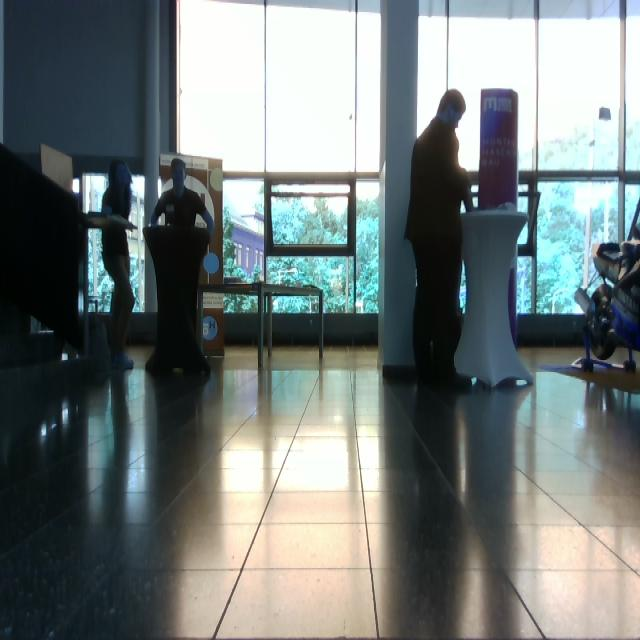light bulb: (203, 252, 220, 274), (599, 106, 611, 121)
person: (404, 89, 475, 390), (145, 158, 215, 377), (100, 160, 138, 370)
pillar: (378, 1, 419, 377)
table: (453, 204, 536, 393), (261, 281, 327, 368)
tiled floor: (2, 341, 639, 638)
window: (176, 1, 383, 318), (83, 172, 146, 314)
